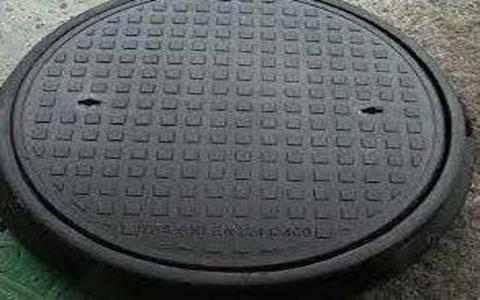proper manhole: (1, 1, 469, 287)
